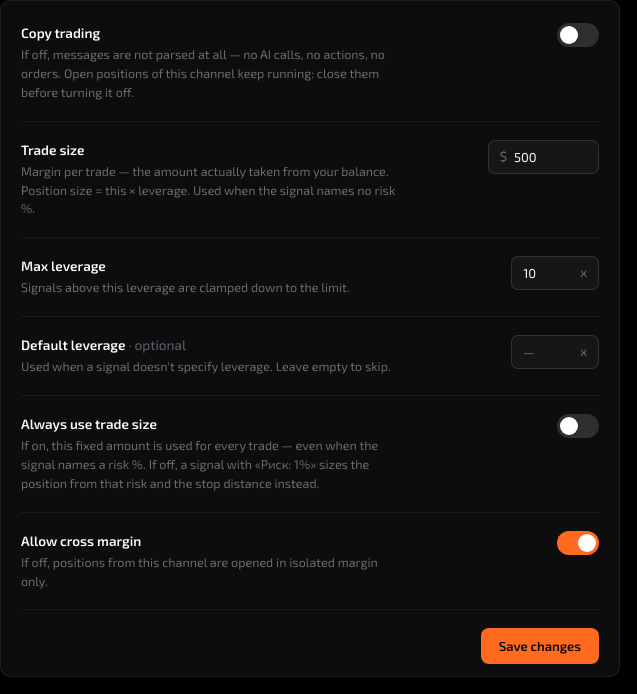
Scenario: ChannelSettings (Settings-таб канала) › после успешного Save кэш ["channel", id] и ["channels"] обновлён ответом сервера
This screenshot has width=637, height=694.
Replace the text in the number field named "Trade size" with "300" at (554, 156), box [510,140,598,172]
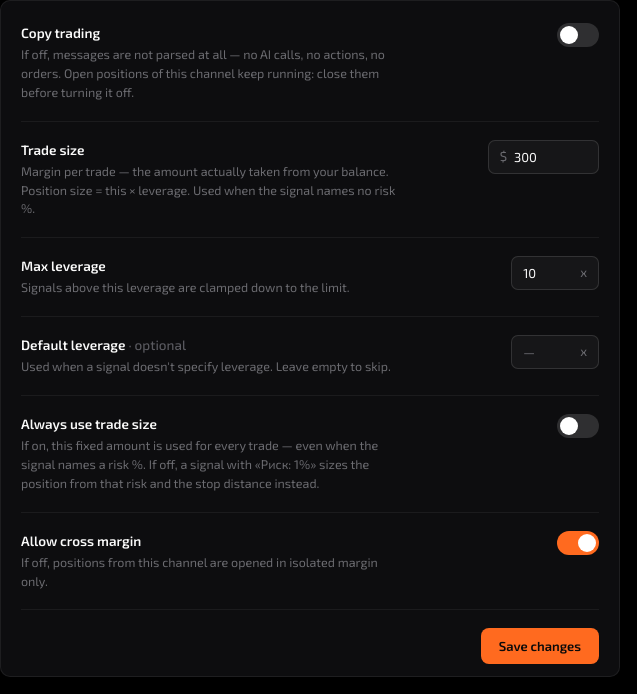
Click the button "Save changes" at (540, 646), box [481,628,599,664]
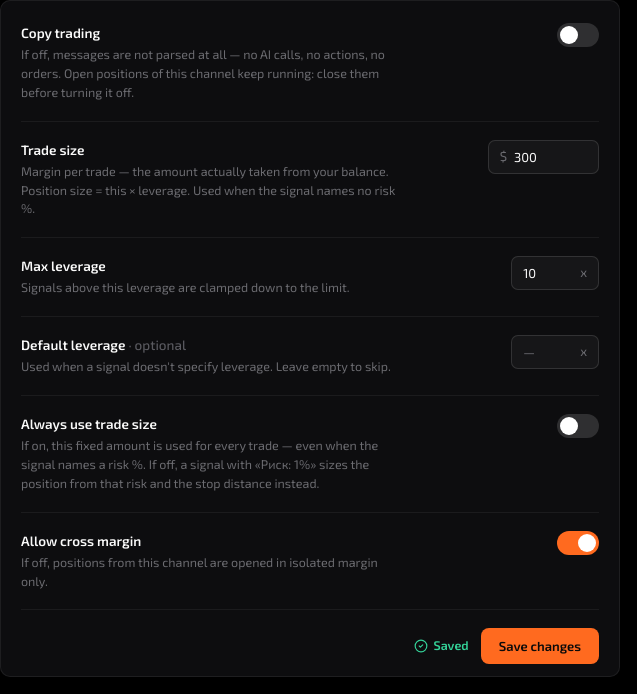
Check: the text "Saved" is shown, box [414,637,469,656]
